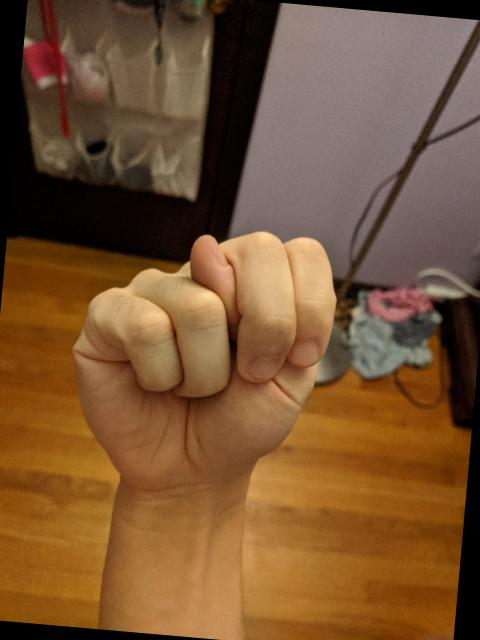N: (54, 210, 350, 504)
